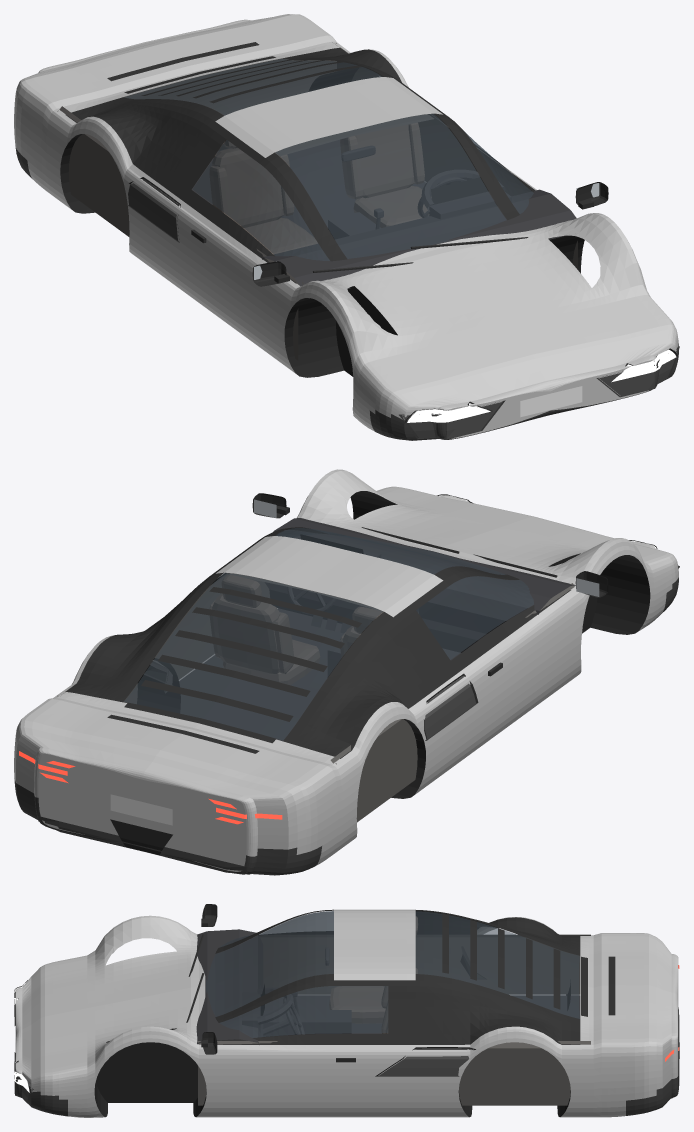
Rendered from car_furia.fbx.
3 renders of one model, top to bottom at view 1: azimuth 30°, elevation 25°; view 2: azimuth 150°, elevation 25°; view 3: azimuth 270°, elevation 25°, orthographic. The views are drawn at different scales.
Parts seen in each view (by area): view 1: furia__hood, furia__glass, furia__interior, furia__cabin, furia__trunk, furia__seats, furia__pillars, furia__doorR, furia__quarterR, furia__roof, furia__wells, furia__fenderFR (+13 smaller); view 2: furia__glass, furia__trunk, furia__interior, furia__pillars, furia__hood, furia__rearPanel, furia__quarterR, furia__doorR, furia__roof, furia__vents, furia__cabin, furia__seats (+10 smaller); view 3: furia__glass, furia__hood, furia__cabin, furia__doorL, furia__quarterL, furia__pillars, furia__trunk, furia__interior, furia__wells, furia__roof, furia__fenderFL, furia__seals (+8 smaller).
Part boxes in pixels (left/top/right/bottom): furia__hood: left=321, top=213, right=668, bottom=414; furia__glass: left=124, top=58, right=533, bottom=260; furia__interior: left=191, top=140, right=576, bottom=298; furia__cabin: left=57, top=42, right=577, bottom=360; furia__trunk: left=24, top=14, right=572, bottom=286; furia__seats: left=209, top=122, right=431, bottom=254; furia__pillars: left=74, top=48, right=519, bottom=261; furia__doorR: left=172, top=201, right=295, bottom=370; furia__quarterR: left=14, top=78, right=183, bottom=287; furia__roof: left=215, top=77, right=442, bottom=157; furia__wells: left=60, top=67, right=584, bottom=377; furia__fenderFR: left=285, top=280, right=441, bottom=431; furia__glass: left=124, top=528, right=533, bottom=740; furia__trunk: left=24, top=512, right=575, bottom=803; furia__interior: left=179, top=518, right=575, bottom=741; furia__pillars: left=73, top=527, right=519, bottom=755; furia__hood: left=305, top=470, right=667, bottom=577; furia__rearPanel: left=34, top=749, right=257, bottom=871; furia__quarterR: left=250, top=672, right=469, bottom=865; furia__doorR: left=459, top=590, right=582, bottom=759; furia__roof: left=216, top=536, right=443, bottom=617; furia__vents: left=107, top=587, right=361, bottom=855; furia__cabin: left=57, top=573, right=574, bottom=822; furia__seats: left=209, top=575, right=383, bottom=684; furia__glass: left=206, top=911, right=579, bottom=1037; furia__hood: left=15, top=917, right=190, bottom=1077; furia__cabin: left=198, top=934, right=590, bottom=1105; furia__doorL: left=205, top=1045, right=388, bottom=1117; furia__quarterL: left=388, top=1026, right=671, bottom=1117; furia__pillars: left=215, top=909, right=580, bottom=1040; furia__trunk: left=191, top=932, right=678, bottom=1044; furia__interior: left=196, top=929, right=580, bottom=1044; furia__wells: left=94, top=980, right=570, bottom=1117; furia__roof: left=334, top=909, right=415, bottom=980; furia__fenderFL: left=22, top=1026, right=205, bottom=1117; furia__seals: left=217, top=917, right=580, bottom=1044.
Size of the model in its own units: 2.46 by 1.03 by 4.97.
